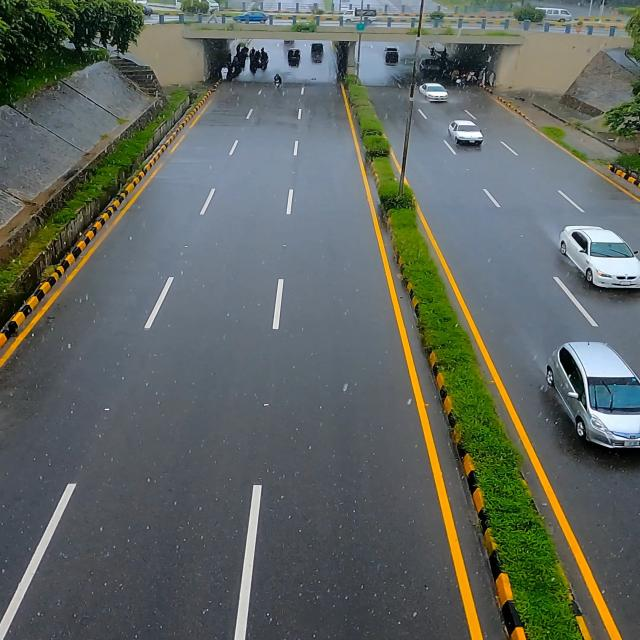Car: (546, 341, 640, 455), (557, 221, 640, 299), (446, 115, 490, 149), (412, 78, 453, 106)
